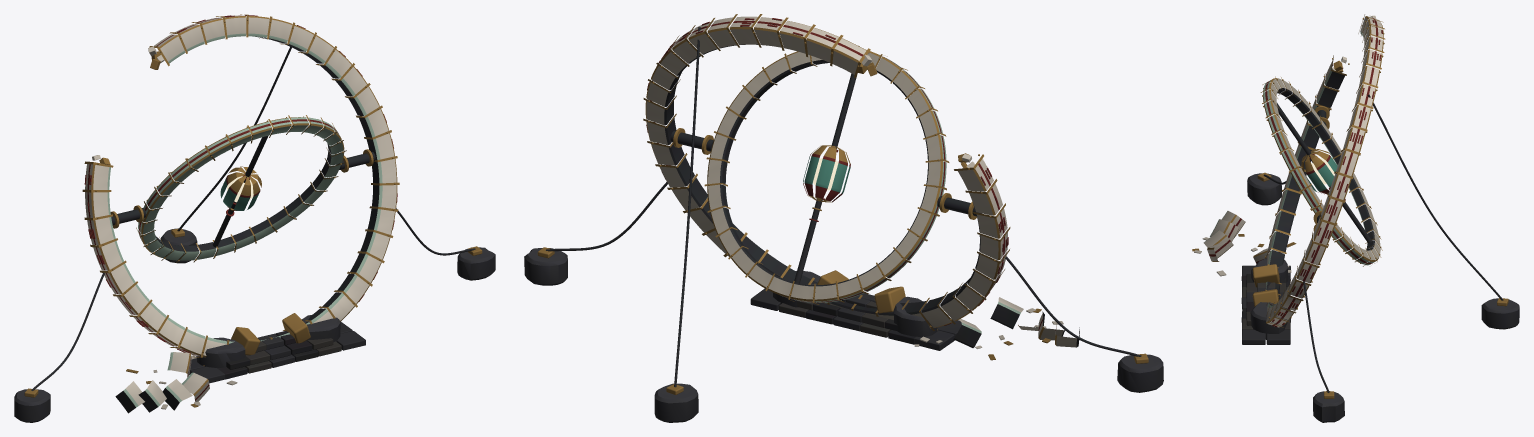
File: sounding-ring.glb
3 views of the same model, side by side, from view 1: azimuth 30°, elevation 25°; view 2: azimuth 150°, elevation 25°; view 3: azimuth 270°, elevation 25° (orthographic). The views are drawn at different scales.
Parts seen in each view (by area): view 1: ring-hull; view 2: ring-hull; view 3: ring-hull.
Part boxes in pixels (left/top/right/bottom): ring-hull: left=14, top=14, right=495, bottom=422; ring-hull: left=524, top=14, right=1163, bottom=422; ring-hull: left=1192, top=14, right=1519, bottom=422.
Bounding box in the file's own units: 57.88 × 32.8 × 34.39.
